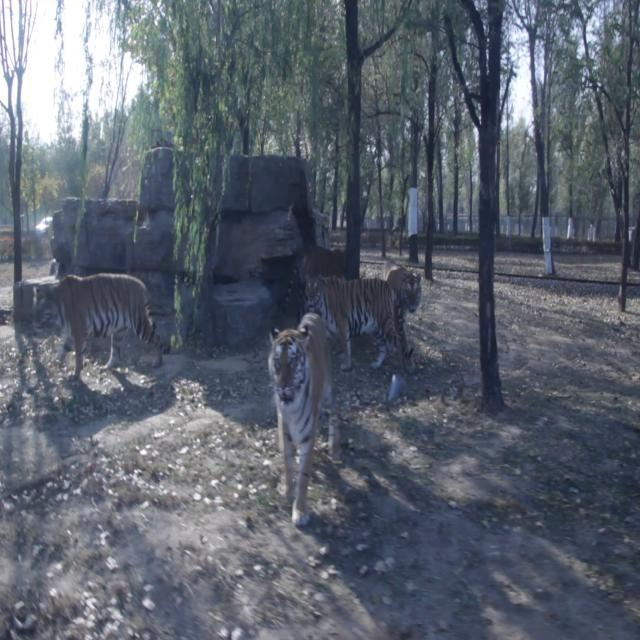Tiger: (262, 305, 340, 537), (28, 265, 181, 379), (308, 273, 404, 378), (284, 234, 356, 287), (383, 261, 422, 325)
